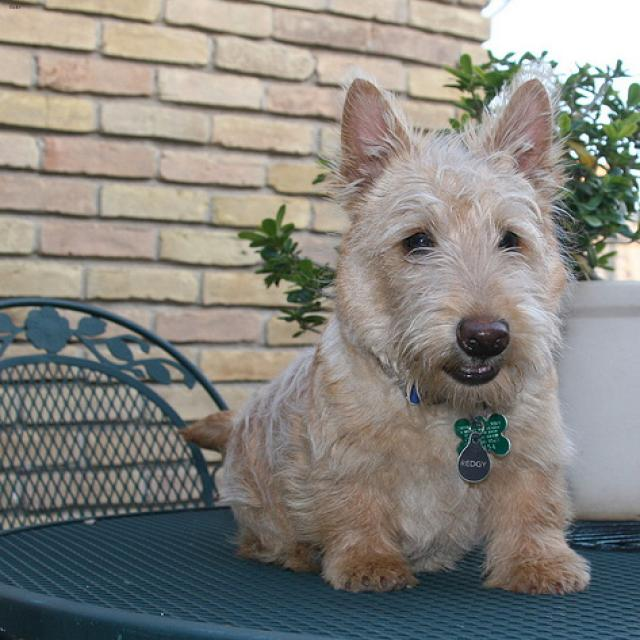dog-scottish_terrier: (165, 65, 599, 607)
